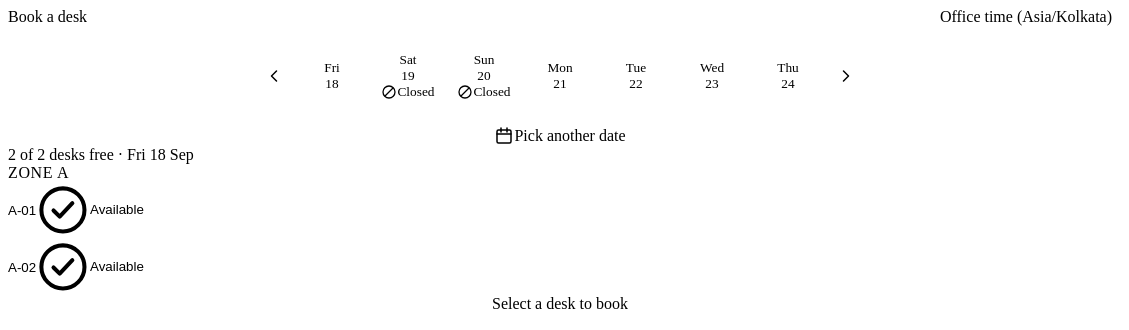
Test: BookADesk — selecting a desk arms the confirm action (US-007/AC-01, AC-02) › selecting an available desk enables the confirm action with the desk and date in its label (US-007/AC-01)
Step 1. Click the radio button labelled "A-01 Available" → (63, 210), box [8, 182, 1112, 238]
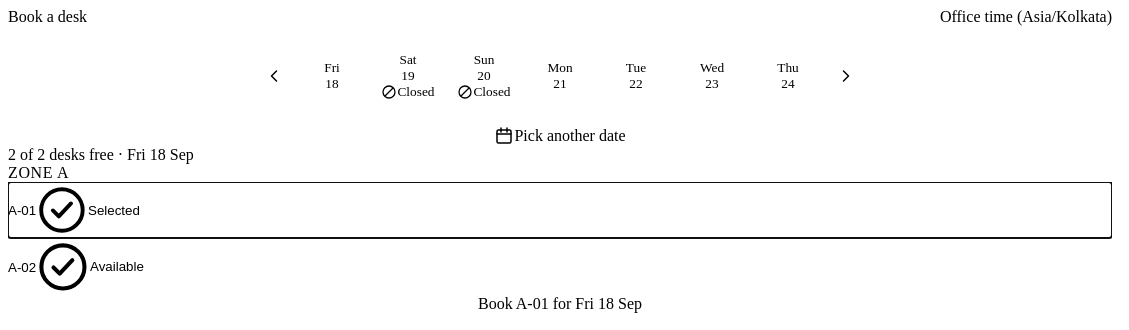
Check: the button "Book A-01 for Fri 18 Sep" is enabled, box [8, 295, 1112, 313]
